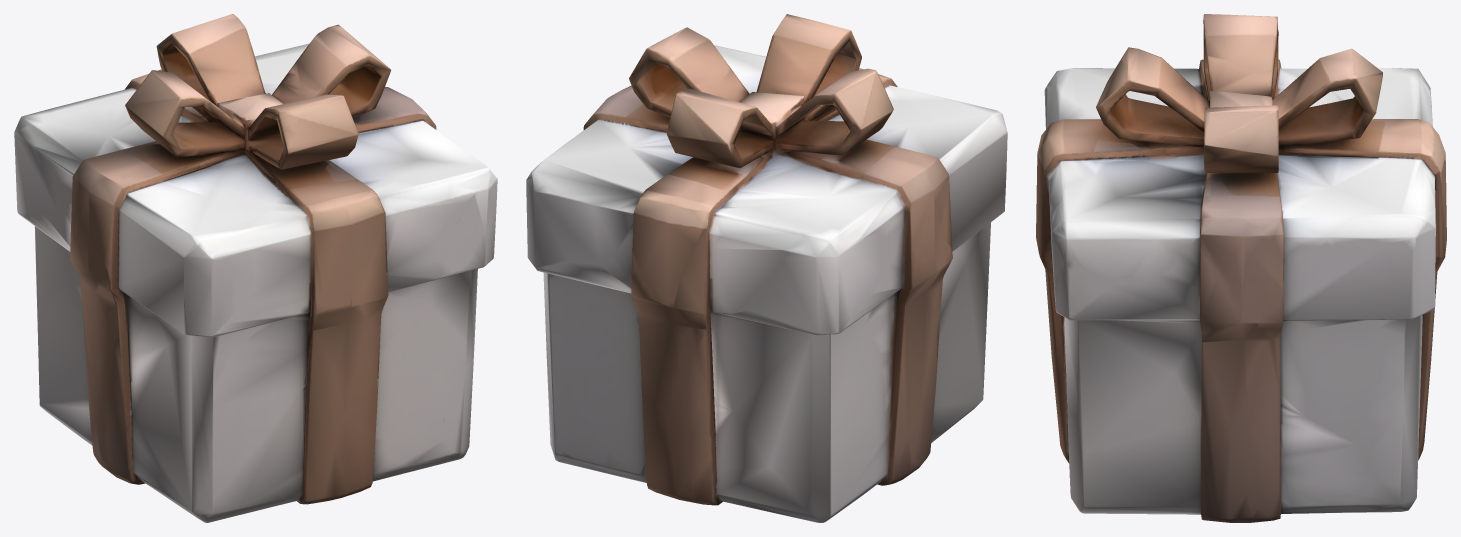
The model's file is giftbox.glb.
The picture shows the model from 3 angles, left to right: view 1: azimuth 30°, elevation 25°; view 2: azimuth 150°, elevation 25°; view 3: azimuth 270°, elevation 25°; orthographic projection. The views are drawn at different scales.
Parts seen in each view (by area): view 1: node_0; view 2: node_0; view 3: node_0.
Boxes of the visible parts, <box> form: node_0: <box>14,14,497,522</box>; node_0: <box>526,14,1007,522</box>; node_0: <box>1036,14,1446,522</box>.
Bounding box in the file's own units: 0.7822 × 0.8531 × 0.8022.
Materials: 1 (1 with a texture image).
